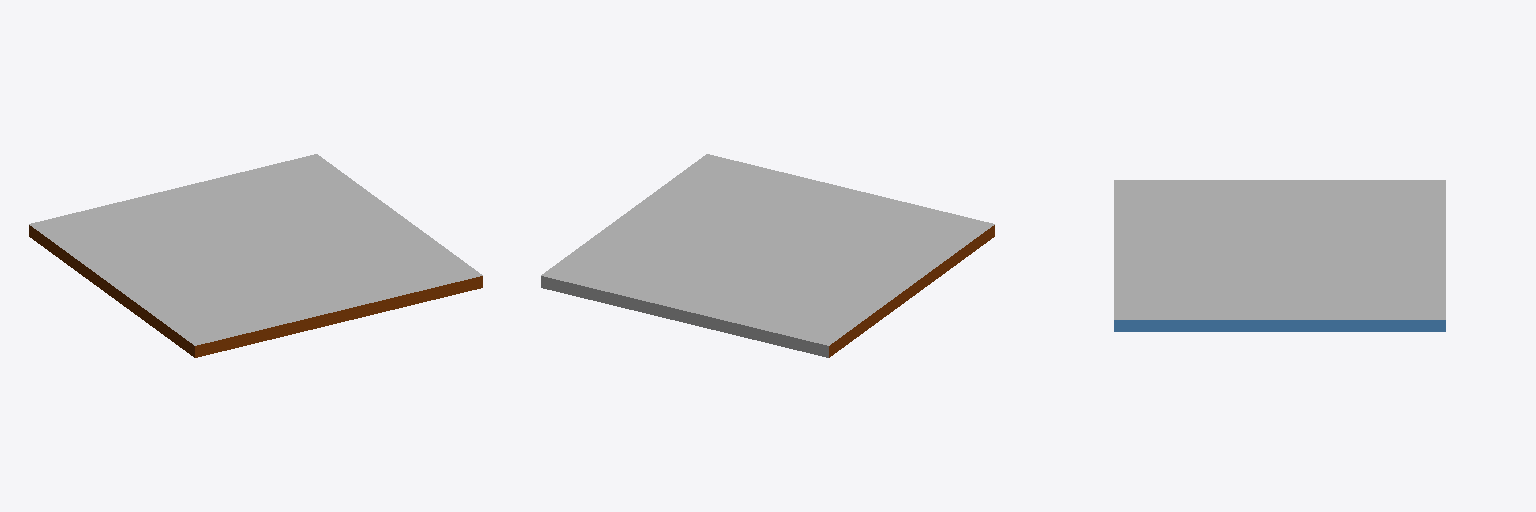
File: doner.obj
3 renders of one model, left to right at view 1: azimuth 30°, elevation 25°; view 2: azimuth 150°, elevation 25°; view 3: azimuth 270°, elevation 25°, orthographic.
Parts seen in each view (by area): view 1: Solid1; view 2: Solid1; view 3: Solid1.
Part boxes in pixels (bbox=[...]): Solid1: bbox=[29, 154, 482, 357]; Solid1: bbox=[541, 154, 994, 357]; Solid1: bbox=[1114, 180, 1445, 331].
Size of the model in its own units: 500 by 20.1 by 500.